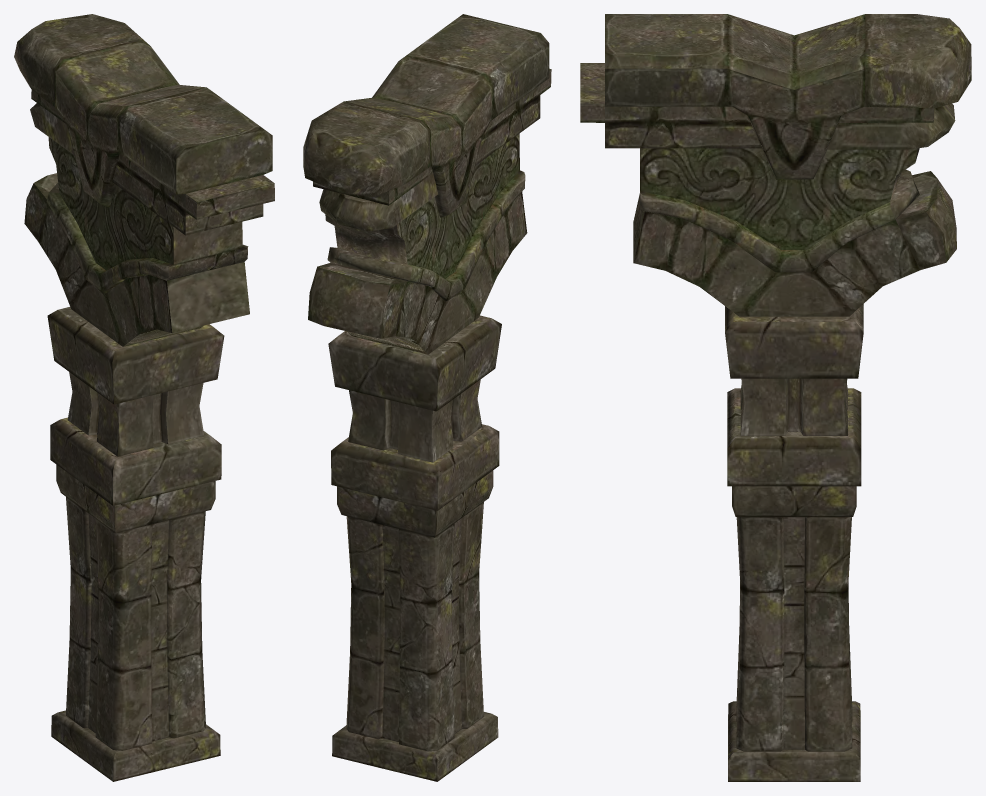
File: Arch_Alley_03_c-transformed.glb
The picture shows the model from 3 angles, left to right: view 1: azimuth 30°, elevation 25°; view 2: azimuth 150°, elevation 25°; view 3: azimuth 270°, elevation 25°; orthographic projection. The views are drawn at different scales.
Visible parts, largest first — view 1: default; view 2: default; view 3: default.
Boxes of the visible parts, box(x1,y1,x2,y2) form: default: box(14, 14, 274, 781); default: box(303, 14, 551, 781); default: box(580, 14, 971, 781).
Bounding box in the file's own units: 1.1 × 6.3 × 3.11.
Materials: 2 (2 with a texture image).
